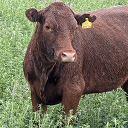vaca: (20, 0, 127, 125)
